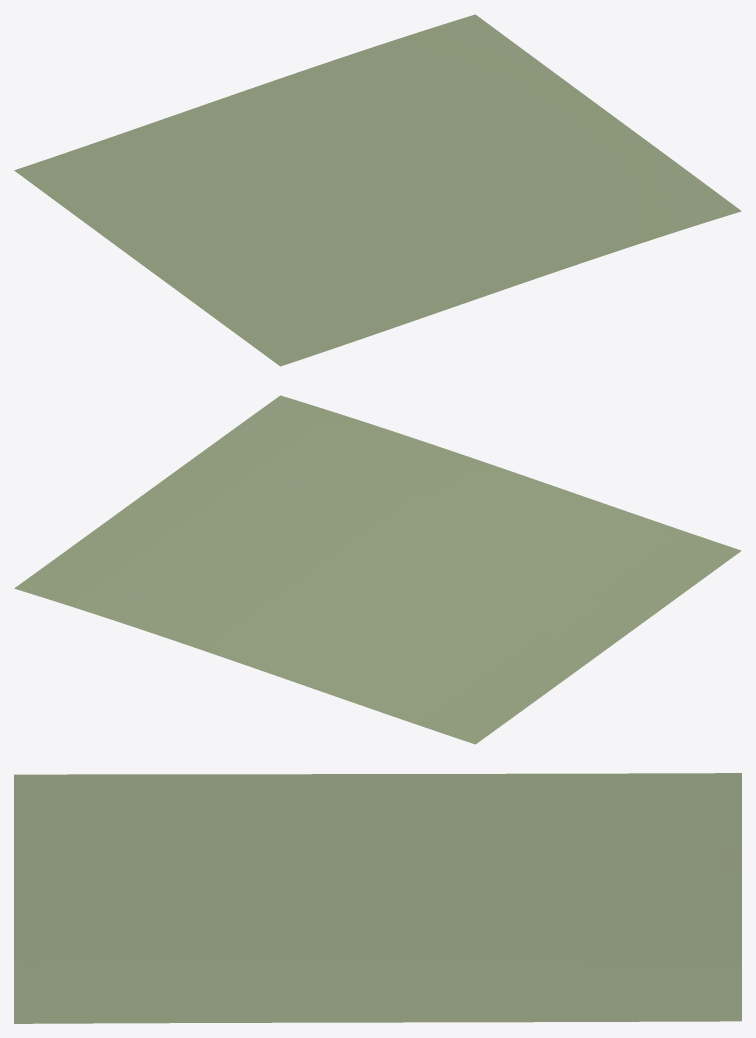
File: valley-14-5.glb
The picture shows the model from 3 angles, top to bottom: view 1: azimuth 30°, elevation 25°; view 2: azimuth 150°, elevation 25°; view 3: azimuth 270°, elevation 25°; orthographic projection. The views are drawn at different scales.
Visible parts, largest first — view 1: valley-14-5; view 2: valley-14-5; view 3: valley-14-5.
Boxes of the visible parts, x1=… form: valley-14-5: x1=14, y1=14, x2=741, y2=366; valley-14-5: x1=14, y1=395, x2=741, y2=744; valley-14-5: x1=14, y1=773, x2=741, y2=1023.
Bounding box in the file's own units: 256 × 23.61 × 256.
